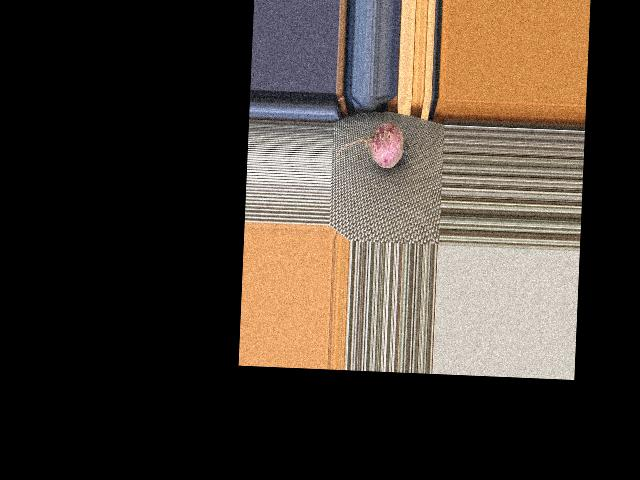beet: (337, 119, 410, 168)
